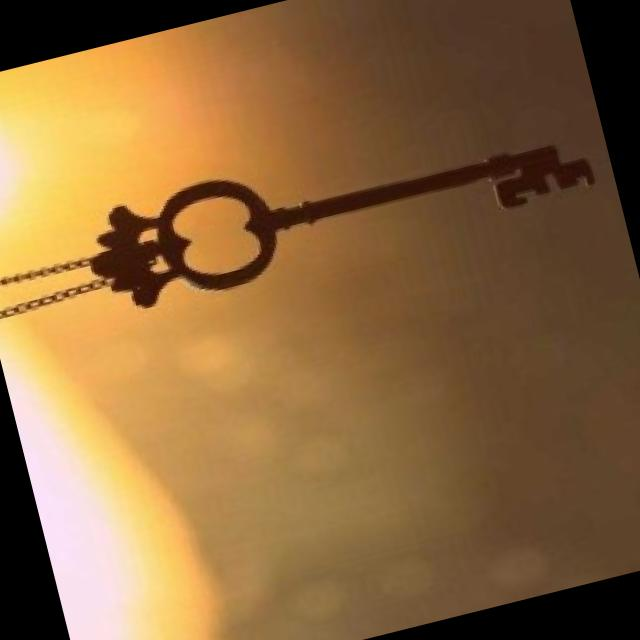anahtar: (20, 71, 613, 346)
